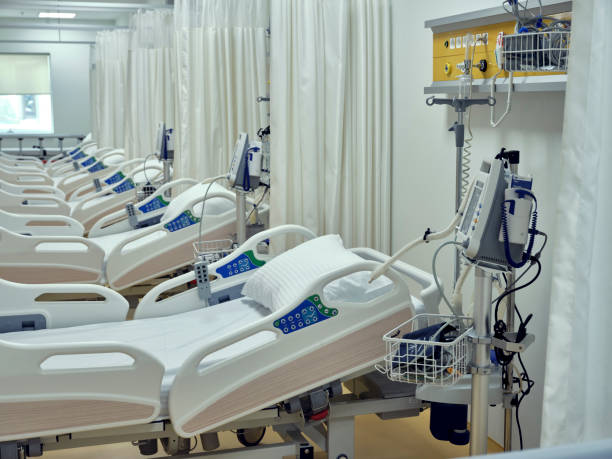bedrail: (168, 260, 415, 438), (134, 224, 327, 319), (1, 342, 166, 443), (107, 193, 244, 294), (88, 176, 201, 237), (1, 281, 128, 332), (1, 225, 104, 284), (70, 165, 171, 225), (69, 159, 158, 204), (57, 152, 132, 197), (1, 207, 84, 239), (54, 147, 125, 182), (1, 186, 70, 215), (2, 175, 71, 204), (2, 167, 71, 196), (2, 162, 71, 191), (2, 157, 71, 186), (1, 152, 68, 181), (48, 143, 104, 173), (46, 141, 98, 171)
bedside_monitor: (454, 147, 540, 277), (225, 128, 270, 200), (153, 120, 176, 162)
curtain: (541, 1, 612, 452), (270, 1, 395, 252), (175, 1, 267, 198), (130, 10, 175, 160), (95, 26, 130, 151)
hospital_bed: (1, 223, 444, 459), (6, 182, 269, 291), (3, 157, 174, 231), (5, 149, 145, 193), (7, 140, 96, 172)
iv_pole: (423, 95, 499, 405)
